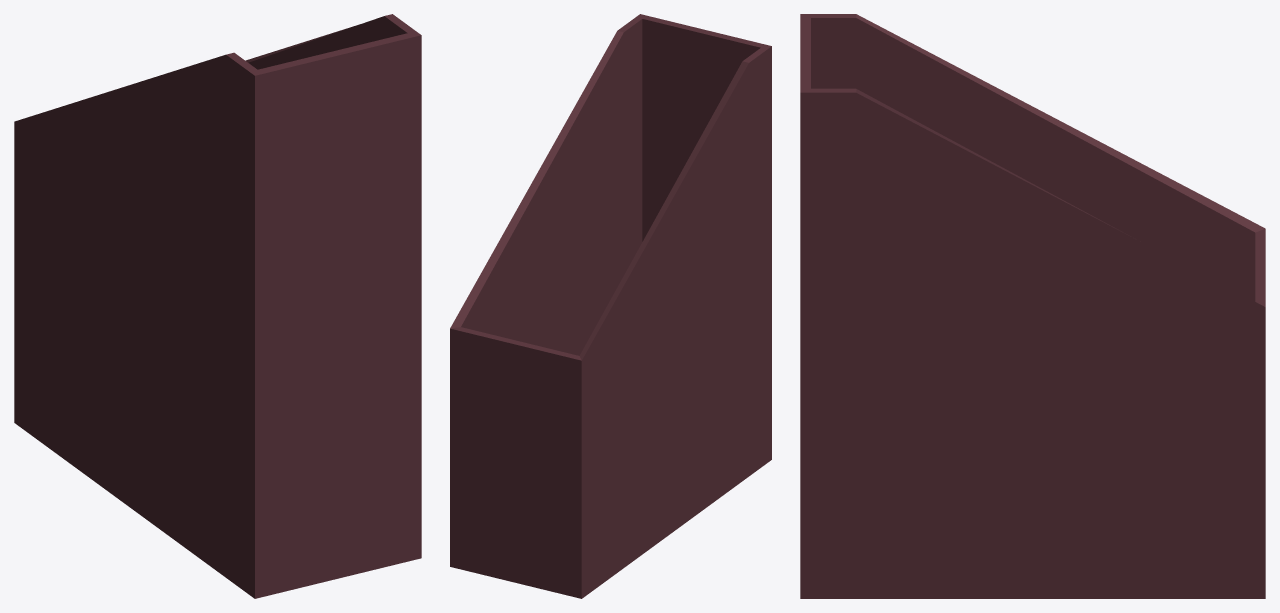
Rendered from furniture-holder-file.glb.
3 renders of one model, left to right at view 1: azimuth 30°, elevation 25°; view 2: azimuth 150°, elevation 25°; view 3: azimuth 270°, elevation 25°, orthographic. The views are drawn at different scales.
Parts seen in each view (by area): view 1: holder-file; view 2: holder-file; view 3: holder-file.
Part boxes in pixels (box(x1,y1,x2,y2)): holder-file: box(14, 14, 421, 598); holder-file: box(450, 14, 771, 598); holder-file: box(800, 14, 1265, 598).
Bounding box in the file's own units: 0.1 × 0.3 × 0.25.
